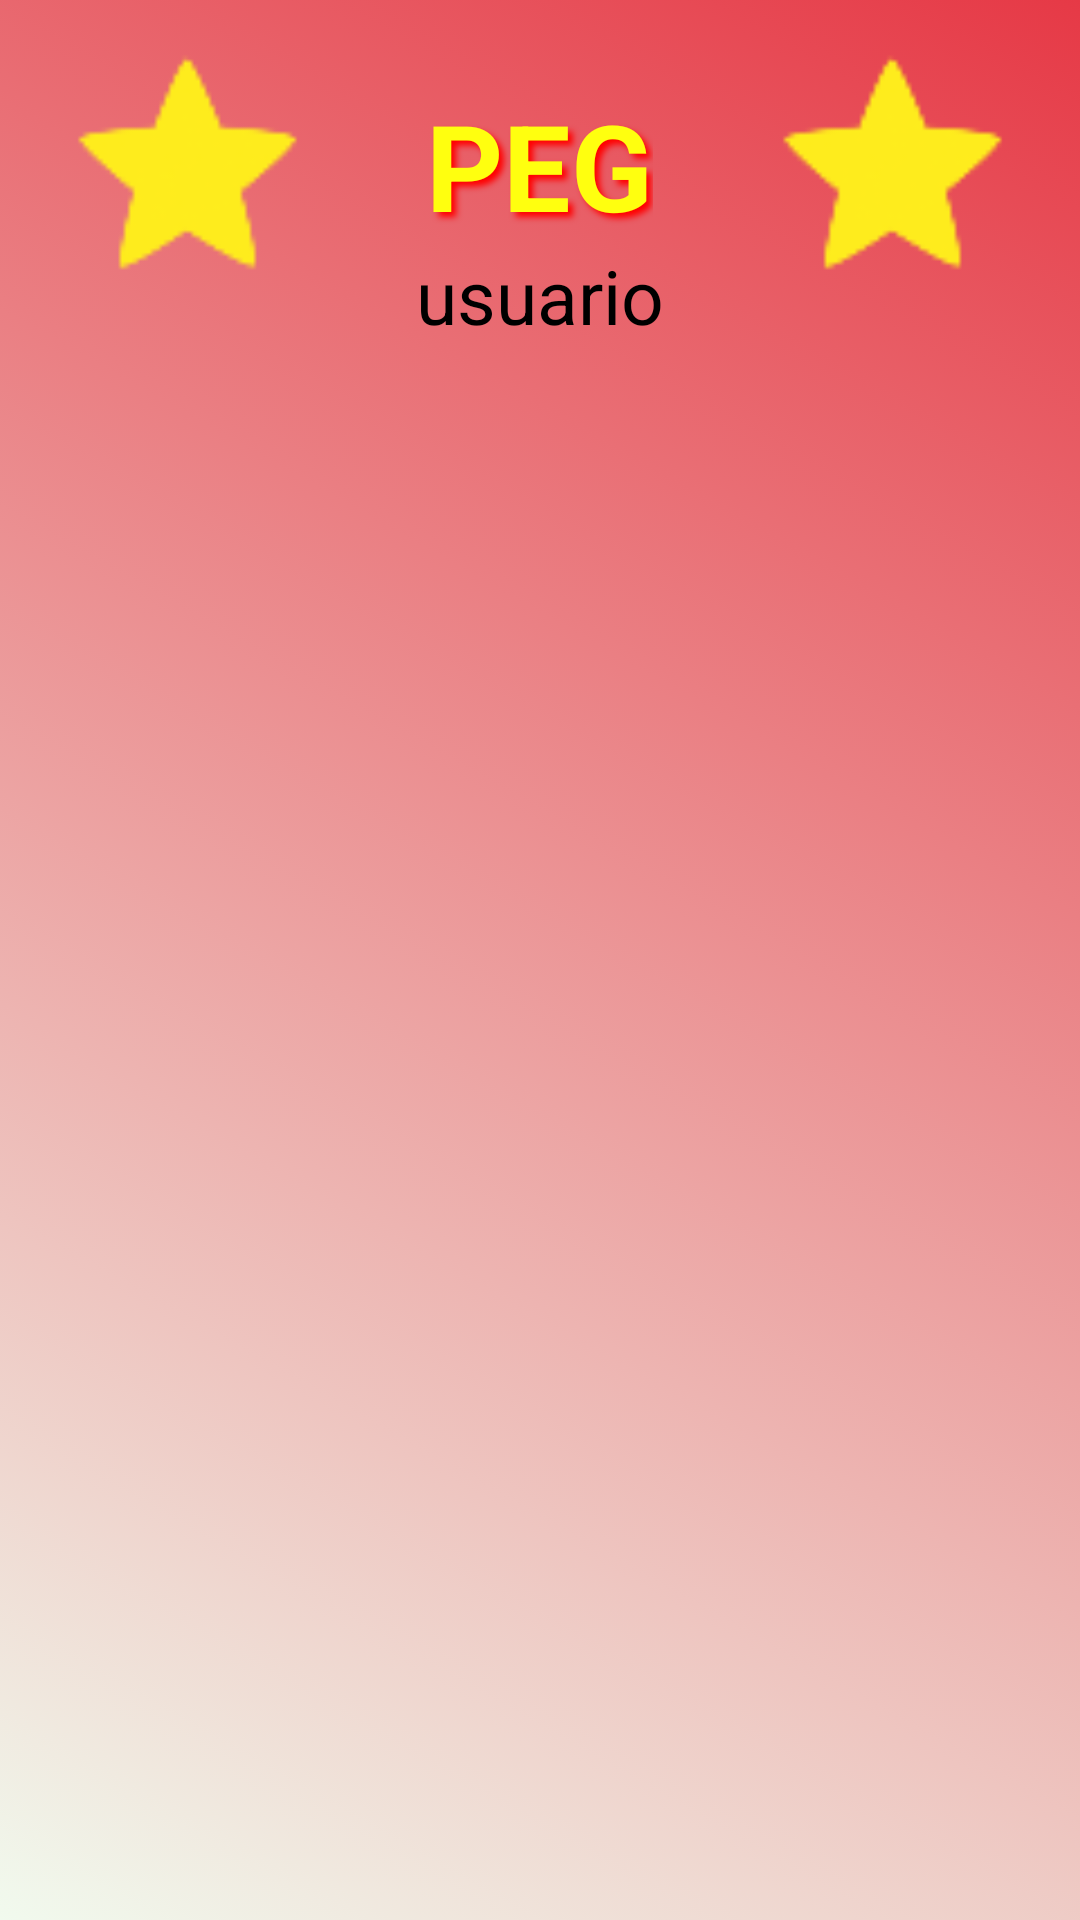

Screen size 1080 x 1920. Icon name, then its box in pixels as (x1, y1, x2, y2):
star: (75, 56, 300, 277), (783, 59, 1002, 270)
